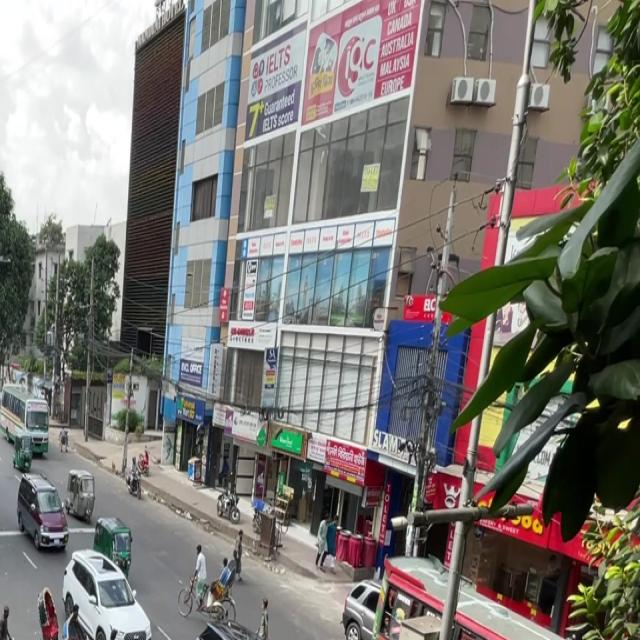car: (61, 546, 152, 640), (15, 474, 74, 558), (186, 610, 331, 640)
motorbike: (214, 484, 241, 524), (123, 461, 144, 501)
rickshaw: (92, 508, 136, 571), (62, 461, 98, 521), (0, 627, 29, 640)
